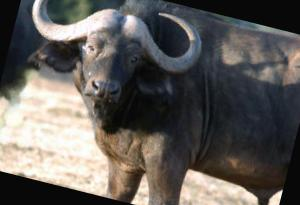Buffalo: (0, 0, 291, 202)
